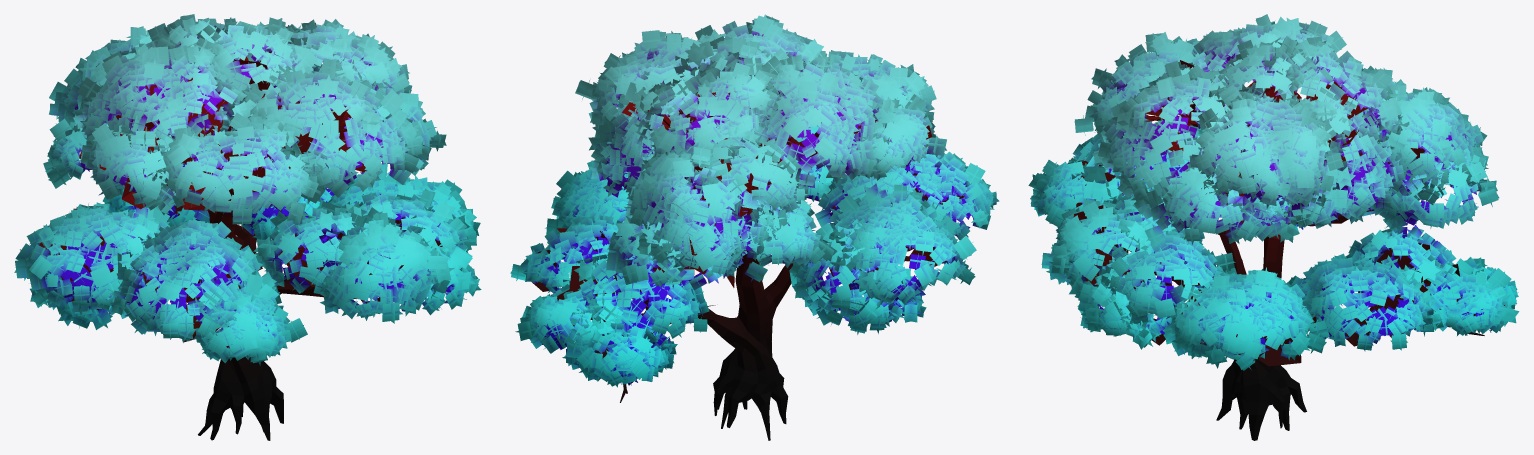
File: SM_Env_Tree_Meadow_01.fbx
3 views of the same model, side by side, from view 1: azimuth 30°, elevation 25°; view 2: azimuth 150°, elevation 25°; view 3: azimuth 270°, elevation 25° (orthographic). The views are drawn at different scales.
Visible parts, largest first — view 1: SM_Env_Tree_Meadow_01_LOD0, SM_Env_Tree_Meadow_01_Branches_LOD0; view 2: SM_Env_Tree_Meadow_01_LOD0, SM_Env_Tree_Meadow_01_Branches_LOD0; view 3: SM_Env_Tree_Meadow_01_LOD0, SM_Env_Tree_Meadow_01_Branches_LOD0.
Boxes of the visible parts, <box> form: SM_Env_Tree_Meadow_01_LOD0: <box>14,14,481,440</box>; SM_Env_Tree_Meadow_01_Branches_LOD0: <box>39,51,441,348</box>; SM_Env_Tree_Meadow_01_LOD0: <box>510,14,999,440</box>; SM_Env_Tree_Meadow_01_Branches_LOD0: <box>532,71,964,358</box>; SM_Env_Tree_Meadow_01_LOD0: <box>1028,14,1519,440</box>; SM_Env_Tree_Meadow_01_Branches_LOD0: <box>1073,60,1504,366</box>.
Size of what is drawn, in the model's own units: 1689 by 1494 by 1729.
